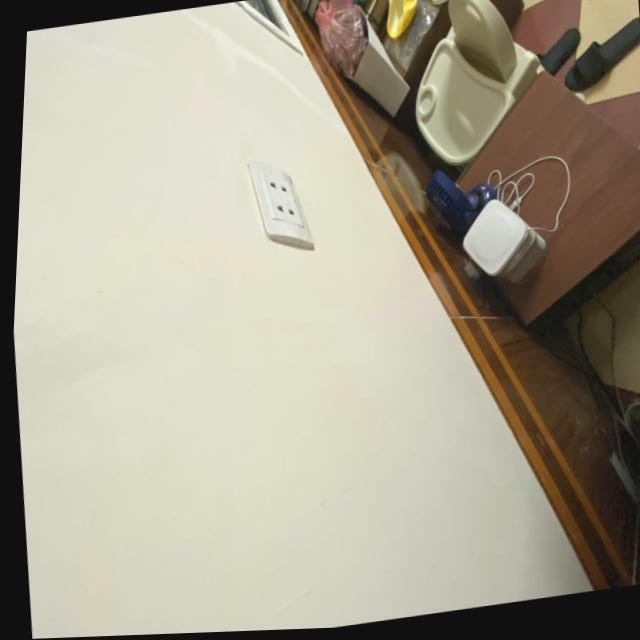outlet: (241, 152, 319, 260)
